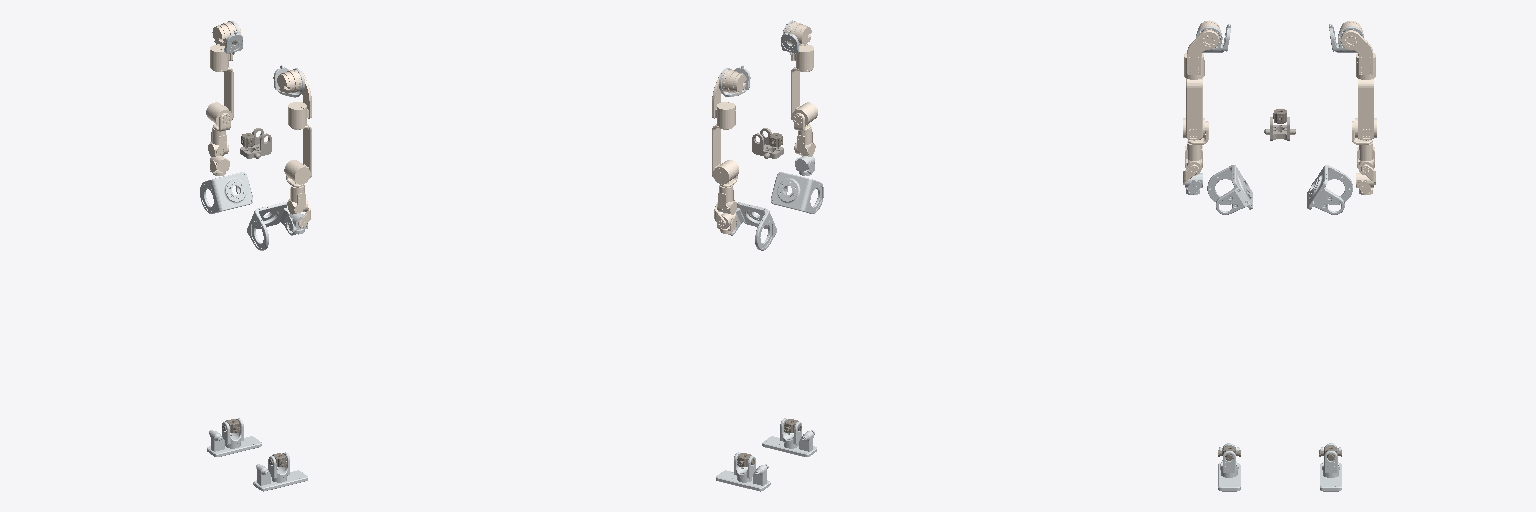
--- Render facts (derived) ---
3 views of the same robot in one strip: view 1: azimuth 30°, elevation 25°; view 2: azimuth 150°, elevation 25°; view 3: azimuth 270°, elevation 25° (orthographic).
Robot: fdr_IMU_09052 — 30 links, 29 joints (14 revolute, 15 fixed); root link base_link; default pose: all joints at 0.
Links seen in each view (by area): view 1: left_hip_pitch_link, right_hip_pitch_link, right_foot_roll_link, left_foot_roll_link, right_shoulder_yaw_link, left_shoulder_yaw_link, right_shoulder_roll_link, spine_yaw_link, left_elbow_link, right_elbow_link; view 2: right_hip_pitch_link, right_foot_roll_link, left_foot_roll_link, left_hip_pitch_link, left_shoulder_yaw_link, right_shoulder_yaw_link, left_shoulder_roll_link, spine_yaw_link, right_elbow_link, left_elbow_link; view 3: left_hip_pitch_link, right_hip_pitch_link, right_shoulder_yaw_link, left_shoulder_yaw_link, right_shoulder_roll_link, left_shoulder_roll_link, right_foot_roll_link, left_foot_roll_link.
Boxes of the visible links, bbox=[...] form: left_hip_pitch_link: bbox=[200, 172, 252, 213]; right_hip_pitch_link: bbox=[247, 202, 295, 250]; right_foot_roll_link: bbox=[253, 452, 307, 491]; left_foot_roll_link: bbox=[207, 418, 261, 456]; right_shoulder_yaw_link: bbox=[288, 102, 311, 177]; left_shoulder_yaw_link: bbox=[210, 45, 233, 119]; right_shoulder_roll_link: bbox=[277, 70, 311, 118]; spine_yaw_link: bbox=[240, 128, 271, 158]; left_elbow_link: bbox=[206, 102, 231, 131]; right_elbow_link: bbox=[284, 160, 310, 187]; right_hip_pitch_link: bbox=[771, 172, 823, 213]; right_foot_roll_link: bbox=[762, 418, 816, 456]; left_foot_roll_link: bbox=[716, 452, 770, 491]; left_hip_pitch_link: bbox=[728, 202, 776, 250]; left_shoulder_yaw_link: bbox=[712, 102, 735, 177]; right_shoulder_yaw_link: bbox=[791, 44, 813, 119]; left_shoulder_roll_link: bbox=[712, 70, 746, 118]; spine_yaw_link: bbox=[752, 128, 783, 158]; right_elbow_link: bbox=[792, 102, 817, 131]; left_elbow_link: bbox=[713, 160, 738, 187]; left_hip_pitch_link: bbox=[1307, 165, 1352, 214]; right_hip_pitch_link: bbox=[1207, 165, 1252, 214]; right_shoulder_yaw_link: bbox=[1184, 53, 1204, 139]; left_shoulder_yaw_link: bbox=[1356, 53, 1375, 139]; right_shoulder_roll_link: bbox=[1187, 20, 1220, 74]; left_shoulder_roll_link: bbox=[1339, 21, 1372, 74]; right_foot_roll_link: bbox=[1218, 443, 1240, 491]; left_foot_roll_link: bbox=[1320, 443, 1341, 491].
Size in the robot's own frame: 0.163 by 0.5196 by 1.35 metres.
22 mesh visuals loaded from 30 distinct referenced files (22 binary STL); not drawn: 8 (reference not matched to a file when rendering).

robot.urdf — fdr_IMU_09052:
<?xml version="1.0" encoding="utf-8"?>
<!-- This URDF was automatically created by SolidWorks to URDF Exporter! Originally created by Stephen Brawner ([email redacted]) 
     Commit Version: 1.6.0-4-g7f85cfe  Build Version: 1.6.7995.38578
     For more information, please see http://wiki.ros.org/sw_urdf_exporter -->
<robot
  name="fdr_IMU_09052">
  <link
    name="base_link">
    <inertial>
      <origin
        xyz="-0.092502 0.0022597 -0.074726"
        rpy="0 0 0" />
      <mass
        value="8.4317" />
      <inertia
        ixx="0.013583"
        ixy="5.901E-07"
        ixz="-1.6434E-06"
        iyy="0.018706"
        iyz="4.5016E-06"
        izz="0.017079" />
    </inertial>
    <visual>
      <origin
        xyz="0 0 0"
        rpy="0 0 0" />
      <geometry>
        <mesh
          filename="package://fdr_IMU_09052/meshes/base_link.STL" />
      </geometry>
      <material
        name="">
        <color
          rgba="0.64706 0.61961 0.58431 1" />
      </material>
    </visual>
    <collision>
      <origin
        xyz="0 0 0"
        rpy="0 0 0" />
      <geometry>
        <mesh
          filename="package://fdr_IMU_09052/meshes/base_link.STL" />
      </geometry>
    </collision>
  </link>
  <link
    name="spine_yaw_link">
    <inertial>
      <origin
        xyz="-0.0167642277988453 -4.83216550718556E-18 0.0179324427707128"
        rpy="0 0 0" />
      <mass
        value="0.512724857423574" />
      <inertia
        ixx="0.000360333966793871"
        ixy="1.99756294261622E-20"
        ixz="7.95371033557421E-05"
        iyy="0.000371991274463207"
        iyz="2.65944667615078E-19"
        izz="0.000485333353658816" />
    </inertial>
    <visual>
      <origin
        xyz="0 0 0"
        rpy="0 0 0" />
      <geometry>
        <mesh
          filename="package://fdr_IMU_09052/meshes/spine_yaw_link.STL" />
      </geometry>
      <material
        name="">
        <color
          rgba="0.776470588235294 0.756862745098039 0.737254901960784 1" />
      </material>
    </visual>
    <collision>
      <origin
        xyz="0 0 0"
        rpy="0 0 0" />
      <geometry>
        <mesh
          filename="package://fdr_IMU_09052/meshes/spine_yaw_link.STL" />
      </geometry>
    </collision>
  </link>
  <joint
    name="spine_yaw_joint"
    type="fixed">
    <origin
      xyz="-0.085746 0 0.033849"
      rpy="0 0 3.14" />
    <parent
      link="base_link" />
    <child
      link="spine_yaw_link" />
    <axis
      xyz="0 0 1" />
    <limit
      lower="-3.14"
      upper="3.14"
      effort="100"
      velocity="100" />
    <dynamics
      damping="10"
      friction="0" />
  </joint>
  <link
    name="spine_roll_link">
    <inertial>
      <origin
        xyz="-4.20014467650276E-10 -1.98020443563714E-09 0.0234999981280513"
        rpy="0 0 0" />
      <mass
        value="0.20322133284943" />
      <inertia
        ixx="3.82686783703292E-05"
        ixy="-1.75031578316365E-12"
        ixz="1.8338992610835E-12"
        iyy="3.50959754846851E-05"
        iyz="-7.31060579494829E-14"
        izz="3.50959762951732E-05" />
    </inertial>
    <visual>
      <origin
        xyz="0 0 0"
        rpy="0 0 0" />
      <geometry>
        <mesh
          filename="package://fdr_IMU_09052/meshes/spine_roll_link.STL" />
      </geometry>
      <material
        name="">
        <color
          rgba="0.647058823529412 0.619607843137255 0.588235294117647 1" />
      </material>
    </visual>
    <collision>
      <origin
        xyz="0 0 0"
        rpy="0 0 0" />
      <geometry>
        <mesh
          filename="package://fdr_IMU_09052/meshes/spine_roll_link.STL" />
      </geometry>
    </collision>
  </link>
  <joint
    name="spine_roll_joint"
    type="fixed">
    <origin
      xyz="-0.0115 0 0.049"
      rpy="3.14159265358979 -1.5707963267949 0" />
    <parent
      link="spine_yaw_link" />
    <child
      link="spine_roll_link" />
    <axis
      xyz="0 0 -1" />
    <limit
      lower="-3.14"
      upper="3.14"
      effort="100"
      velocity="100" />
    <dynamics
      damping="10" />
  </joint>
  <link
    name="spine_pitch_link">
    <inertial>
      <origin
        xyz="0.0390962896444022 0.153088838823938 -0.00764406602523993"
        rpy="0 0 0" />
      <mass
        value="16.3609406297762" />
      <inertia
        ixx="0.0503402522830446"
        ixy="0.00128746598277301"
        ixz="-3.64123165929132E-05"
        iyy="0.0251983730044507"
        iyz="-6.86772878998939E-06"
        izz="0.0452164860848158" />
    </inertial>
    <visual>
      <origin
        xyz="0 0 0"
        rpy="0 0 0" />
      <geometry>
        <mesh
          filename="package://fdr_IMU_09052/meshes/spine_pitch_link.STL" />
      </geometry>
      <material
        name="">
        <color
          rgba="0.898039215686275 0.917647058823529 0.929411764705882 1" />
      </material>
    </visual>
    <collision>
      <origin
        xyz="0 0 0"
        rpy="0 0 0" />
      <geometry>
        <mesh
          filename="package://fdr_IMU_09052/meshes/spine_pitch_link.STL" />
      </geometry>
    </collision>
  </link>
  <joint
    name="spine_pitch_joint"
    type="fixed">
    <origin
      xyz="0 0 0.0235"
      rpy="1.5707963267949 1.5707963267949 0" />
    <parent
      link="spine_roll_link" />
    <child
      link="spine_pitch_link" />
    <axis
      xyz="0 0 1" />
    <limit
      lower="-3.14"
      upper="3.14"
      effort="100"
      velocity="100" />
    <dynamics
      damping="10"
      friction="0" />
  </joint>
  <link
    name="right_shoulder_pitch_link">
    <inertial>
      <origin
        xyz="0.00726493672440402 0.0160210342146205 -0.0150718557979061"
        rpy="0 0 0" />
      <mass
        value="0.150404179426623" />
      <inertia
        ixx="0.00016065911452015"
        ixy="8.77761346033885E-07"
        ixz="2.3872677972639E-05"
        iyy="0.000116109794068915"
        iyz="1.82052724463733E-05"
        izz="0.000118562679048305" />
    </inertial>
    <visual>
      <origin
        xyz="0 0 0"
        rpy="0 0 0" />
      <geometry>
        <mesh
          filename="package://fdr_IMU_09052/meshes/right_shoulder_pitch_link.STL" />
      </geometry>
      <material
        name="">
        <color
          rgba="0.898039215686275 0.917647058823529 0.929411764705882 1" />
      </material>
    </visual>
    <collision>
      <origin
        xyz="0 0 0"
        rpy="0 0 0" />
      <geometry>
        <mesh
          filename="package://fdr_IMU_09052/meshes/right_shoulder_pitch_link.STL" />
      </geometry>
    </collision>
  </link>
  <joint
    name="right_shoulder_pitch_joint"
    type="revolute">
    <origin
      xyz="0.035 0.24912 0.14654"
      rpy="2.9845 0 0" />
    <parent
      link="spine_pitch_link" />
    <child
      link="right_shoulder_pitch_link" />
    <axis
      xyz="0 0 -1" />
    <limit
      lower="-0.5235987755982988"
      upper="1.3089969389957472"
      effort="100"
      velocity="100" />
    <dynamics
      damping="10"
      friction="0" />
  </joint>
  <link
    name="right_shoulder_roll_link">
    <inertial>
      <origin
        xyz="-0.00528301339360848 -0.00391103253287475 0.0306824966505937"
        rpy="0 0 0" />
      <mass
        value="0.824274203730424" />
      <inertia
        ixx="0.000413929187898958"
        ixy="-4.36667084281768E-05"
        ixz="-2.79690205937324E-06"
        iyy="0.000495983312000307"
        iyz="-2.26468871613379E-06"
        izz="0.000519944040658844" />
    </inertial>
    <visual>
      <origin
        xyz="0 0 0"
        rpy="0 0 0" />
      <geometry>
        <mesh
          filename="package://fdr_IMU_09052/meshes/right_shoulder_roll_link.STL" />
      </geometry>
      <material
        name="">
        <color
          rgba="1 0.949019607843137 0.898039215686275 1" />
      </material>
    </visual>
    <collision>
      <origin
        xyz="0 0 0"
        rpy="0 0 0" />
      <geometry>
        <mesh
          filename="package://fdr_IMU_09052/meshes/right_shoulder_roll_link.STL" />
      </geometry>
    </collision>
  </link>
  <joint
    name="right_shoulder_roll_joint"
    type="revolute">
    <origin
      xyz="0.037 0 -0.0440000000000103"
      rpy="1.5707963267949 0.157079632679465 -1.5707963267949" />
    <parent
      link="right_shoulder_pitch_link" />
    <child
      link="right_shoulder_roll_link" />
    <axis
      xyz="0 0 1" />
    <limit
      lower="0"
      upper="0.6981317007977318"
      effort="100"
      velocity="100" />
    <dynamics
      damping="10"
      friction="0" />
  </joint>
  <link
    name="right_shoulder_yaw_link">
    <inertial>
      <origin
        xyz="0.00733976342836698 -2.93483492130597E-05 0.0561889030475278"
        rpy="0 0 0" />
      <mass
        value="0.762217739018952" />
      <inertia
        ixx="0.000876116071853165"
        ixy="5.15463344860439E-08"
        ixz="-6.83621144019053E-05"
        iyy="0.000878059400297853"
        iyz="3.52958180892885E-07"
        izz="0.000276787535326338" />
    </inertial>
    <visual>
      <origin
        xyz="0 0 0"
        rpy="0 0 0" />
      <geometry>
        <mesh
          filename="package://fdr_IMU_09052/meshes/right_shoulder_yaw_link.STL" />
      </geometry>
      <material
        name="">
        <color
          rgba="1 0.949019607843137 0.898039215686275 1" />
      </material>
    </visual>
    <collision>
      <origin
        xyz="0 0 0"
        rpy="0 0 0" />
      <geometry>
        <mesh
          filename="package://fdr_IMU_09052/meshes/right_shoulder_yaw_link.STL" />
      </geometry>
    </collision>
  </link>
  <joint
    name="right_shoulder_yaw_joint"
    type="revolute">
    <origin
      xyz="-0.0606 -0.04 0.037"
      rpy="3.14159265358979 1.5707963267949 0" />
    <parent
      link="right_shoulder_roll_link" />
    <child
      link="right_shoulder_yaw_link" />
    <axis
      xyz="0 0 1" />
    <limit
      lower="-1.2217304763960306"
      upper="1.0471975511965976"
      effort="100"
      velocity="100" />
    <dynamics
      damping="10"
      friction="0" />
  </joint>
  <link
    name="right_elbow_link">
    <inertial>
      <origin
        xyz="0.000277962560749325 0.00264568178866972 0.031936880067252"
        rpy="0 0 0" />
      <mass
        value="0.627813247458869" />
      <inertia
        ixx="0.000302356374940733"
        ixy="-2.95392965048702E-09"
        ixz="6.15601022399525E-07"
        iyy="0.000296795649661971"
        iyz="9.79532669385132E-06"
        izz="0.000237062043603817" />
    </inertial>
    <visual>
      <origin
        xyz="0 0 0"
        rpy="0 0 0" />
      <geometry>
        <mesh
          filename="package://fdr_IMU_09052/meshes/right_elbow_link.STL" />
      </geometry>
      <material
        name="">
        <color
          rgba="1 0.949019607843137 0.898039215686275 1" />
      </material>
    </visual>
    <collision>
      <origin
        xyz="0 0 0"
        rpy="0 0 0" />
      <geometry>
        <mesh
          filename="package://fdr_IMU_09052/meshes/right_elbow_link.STL" />
      </geometry>
    </collision>
  </link>
  <joint
    name="right_elbow_joint"
    type="revolute">
    <origin
      xyz="0 0.0294 0.2144"
      rpy="1.5707963267949 0 0" />
    <parent
      link="right_shoulder_yaw_link" />
    <child
      link="right_elbow_link" />
    <axis
      xyz="0 0 1" />
    <limit
      lower="-1.5707963267948966"
      upper="0.17453292519943295"
      effort="100"
      velocity="100" />
    <dynamics
      damping="10"
      friction="0" />
  </joint>
  <link
    name="right_wrist_yaw_link">
    <inertial>
      <origin
        xyz="-0.000242656820709049 8.32667268468867E-17 0.0258622047747572"
        rpy="0 0 0" />
      <mass
        value="0.266822775800458" />
      <inertia
        ixx="7.74367014315816E-05"
        ixy="-1.29474320794427E-21"
        ixz="1.25125744566069E-06"
        iyy="7.68686590797202E-05"
        iyz="-1.04366370075862E-19"
        izz="5.16776275688375E-05" />
    </inertial>
    <visual>
      <origin
        xyz="0 0 0"
        rpy="0 0 0" />
      <geometry>
        <mesh
          filename="package://fdr_IMU_09052/meshes/right_wrist_yaw_link.STL" />
      </geometry>
      <material
        name="">
        <color
          rgba="1 0.949019607843137 0.898039215686275 1" />
      </material>
    </visual>
    <collision>
      <origin
        xyz="0 0 0"
        rpy="0 0 0" />
      <geometry>
        <mesh
          filename="package://fdr_IMU_09052/meshes/right_wrist_yaw_link.STL" />
      </geometry>
    </collision>
  </link>
  <joint
    name="right_wrist_yaw_joint"
    type="revolute">
    <origin
      xyz="0 0.042 0.0294"
      rpy="-1.5707963267949 0 0" />
    <parent
      link="right_elbow_link" />
    <child
      link="right_wrist_yaw_link" />
    <axis
      xyz="0 0 1" />
    <limit
      lower="-3.14"
      upper="3.14"
      effort="100"
      velocity="100" />
    <dynamics
      damping="10"
      friction="0" />
  </joint>
  <link
    name="right_wrist_roll_link">
    <inertial>
      <origin
        xyz="-0.00291298270747151 -0.00237223155080904 0.0212206264270455"
        rpy="0 0 0" />
      <mass
        value="0.276210246259396" />
      <inertia
        ixx="7.94967887501699E-05"
        ixy="-5.19558029637707E-06"
        ixz="5.19558219301222E-06"
        iyy="8.27578232688135E-05"
        iyz="2.81018255326507E-06"
        izz="6.49063504688485E-05" />
    </inertial>
    <visual>
      <origin
        xyz="0 0 0"
        rpy="0 0 0" />
      <geometry>
        <mesh
          filename="package://fdr_IMU_09052/meshes/right_wrist_roll_link.STL" />
      </geometry>
      <material
        name="">
        <color
          rgba="1 0.949019607843137 0.898039215686275 1" />
      </material>
    </visual>
    <collision>
      <origin
        xyz="0 0 0"
        rpy="0 0 0" />
      <geometry>
        <mesh
          filename="package://fdr_IMU_09052/meshes/right_wrist_roll_link.STL" />
      </geometry>
    </collision>
  </link>
  <joint
    name="right_wrist_roll_joint"
    type="revolute">
    <origin
      xyz="0.024 0 0.0675"
      rpy="3.14159265358979 1.5707963267949 0" />
    <parent
      link="right_wrist_yaw_link" />
    <child
      link="right_wrist_roll_link" />
    <axis
      xyz="0 0 1" />
    <limit
      lower="-3.14"
      upper="3.14"
      effort="100"
      velocity="100" />
    <dynamics
      damping="10"
      friction="0" />
  </joint>
  <link
    name="right_wrist_pitch_link">
    <inertial>
      <origin
        xyz="-7.69785001439601E-10 -0.00525553432682421 0.0235450775997483"
        rpy="0 0 0" />
      <mass
        value="0.309451429847079" />
      <inertia
        ixx="7.59405108715065E-05"
        ixy="2.22661625566264E-12"
        ixz="2.28931729492218E-12"
        iyy="8.16300598612419E-05"
        iyz="5.37008224611371E-07"
        izz="5.82370720700534E-05" />
    </inertial>
    <visual>
      <origin
        xyz="0 0 0"
        rpy="0 0 0" />
      <geometry>
        <mesh
          filename="package://fdr_IMU_09052/meshes/right_wrist_pitch_link.STL" />
      </geometry>
      <material
        name="">
        <color
          rgba="0.898039215686275 0.917647058823529 0.929411764705882 1" />
      </material>
    </visual>
    <collision>
      <origin
        xyz="0 0 0"
        rpy="0 0 0" />
      <geometry>
        <mesh
          filename="package://fdr_IMU_09052/meshes/right_wrist_pitch_link.STL" />
      </geometry>
    </collision>
  </link>
  <joint
    name="right_wrist_pitch_joint"
    type="revolute">
    <origin
      xyz="-0.045 0.0227 0.024"
      rpy="1.5707963267949 1.5707963267949 0" />
    <parent
      link="right_wrist_roll_link" />
    <child
      link="right_wrist_pitch_link" />
    <axis
      xyz="0 0 -1" />
    <limit
      lower="-3.14"
      upper="3.14"
      effort="100"
      velocity="100" />
    <dynamics
      damping="10"
      friction="0" />
  </joint>
  <link
    name="left_shoulder_pitch_link">
    <inertial>
      <origin
        xyz="0.00726263720510797 -0.0160426716485585 -0.0151508653822726"
        rpy="0 0 0" />
      <mass
        value="0.150612198017708" />
      <inertia
        ixx="0.000161248575295525"
        ixy="-8.87481553883276E-07"
        ixz="2.39760430526512E-05"
        iyy="0.000116670878127269"
        iyz="-1.82773958434125E-05"
        izz="0.000118642023449451" />
    </inertial>
    <visual>
      <origin
        xyz="0 0 0"
        rpy="0 0 0" />
      <geometry>
        <mesh
          filename="package://fdr_IMU_09052/meshes/left_shoulder_pitch_link.STL" />
      </geometry>
      <material
        name="">
        <color
          rgba="0.898039215686275 0.917647058823529 0.929411764705882 1" />
      </material>
    </visual>
    <collision>
      <origin
        xyz="0 0 0"
        rpy="0 0 0" />
      <geometry>
        <mesh
          filename="package://fdr_IMU_09052/meshes/left_shoulder_pitch_link.STL" />
      </geometry>
    </collision>
  </link>
  <joint
    name="left_shoulder_pitch_joint"
    type="revolute">
    <origin
      xyz="0.035 0.24909 -0.14634"
      rpy="0.15708 0 0" />
    <parent
      link="spine_pitch_link" />
    <child
      link="left_shoulder_pitch_link" />
    <axis
      xyz="0 0 -1" />
    <limit
      lower="-1.3089969389957472"
      upper="0.5235987755982988"
      effort="100"
      velocity="100" />
    <dynamics
      damping="10"
      friction="0" />
  </joint>
  <link
    name="left_shoulder_roll_link">
    <inertial>
      <origin
        xyz="-0.00528301339357101 0.00422008160705353 0.0306824966506983"
        rpy="0 0 0" />
      <mass
        value="0.824274203727834" />
      <inertia
        ixx="0.000413929187896465"
        ixy="4.45257216793729E-05"
        ixz="-2.79690205949292E-06"
        iyy="0.000495983311989378"
        iyz="-4.40399144249311E-06"
        izz="0.000519944040645479" />
    </inertial>
    <visual>
      <origin
        xyz="0 0 0"
        rpy="0 0 0" />
      <geometry>
        <mesh
          filename="package://fdr_IMU_09052/meshes/left_shoulder_roll_link.STL" />
      </geometry>
      <material
        name="">
        <color
          rgba="1 0.949019607843137 0.898039215686275 1" />
      </material>
    </visual>
    <collision>
      <origin
        xyz="0 0 0"
        rpy="0 0 0" />
      <geometry>
        <mesh
          filename="package://fdr_IMU_09052/meshes/left_shoulder_roll_link.STL" />
      </geometry>
    </collision>
  </link>
  <joint
    name="left_shoulder_roll_joint"
    type="revolute">
    <origin
      xyz="0.037 0 -0.0441999999999534"
      rpy="-1.5707963267949 0.157079632679465 1.5707963267949" />
    <parent
      link="left_shoulder_pitch_link" />
    <child
      link="left_shoulder_roll_link" />
    <axis
      xyz="0 0 1" />
    <limit
      lower="-0.6981317007977318"
      upper="0"
      effort="100"
      velocity="100" />
    <dynamics
      damping="10"
      friction="0" />
  </joint>
  <link
    name="left_shoulder_yaw_link">
    <inertial>
      <origin
        xyz="0.00733976343068545 -5.88472369134063E-06 0.056188903061288"
        rpy="0 0 0" />
      <mass
        value="0.762217739339882" />
      <inertia
        ixx="0.000876116072763052"
        ixy="-5.74541148921429E-08"
        ixz="-6.83621146066282E-05"
        iyy="0.000878059401242813"
        iyz="-1.13865106166626E-06"
        izz="0.000276787535412725" />
    </inertial>
    <visual>
      <origin
        xyz="0 0 0"
        rpy="0 0 0" />
      <geometry>
        <mesh
          filename="package://fdr_IMU_09052/meshes/left_shoulder_yaw_link.STL" />
      </geometry>
      <material
        name="">
        <color
          rgba="1 0.949019607843137 0.898039215686275 1" />
      </material>
    </visual>
    <collision>
      <origin
        xyz="0 0 0"
        rpy="0 0 0" />
      <geometry>
        <mesh
          filename="package://fdr_IMU_09052/meshes/left_shoulder_yaw_link.STL" />
      </geometry>
    </collision>
  </link>
  <joint
    name="left_shoulder_yaw_joint"
    type="revolute">
    <origin
      xyz="-0.0606 0.04 0.037"
      rpy="3.14159265358979 1.5707963267949 0" />
    <parent
      link="left_shoulder_roll_link" />
    <child
      link="left_shoulder_yaw_link" />
    <axis
      xyz="0 0 1" />
    <limit
      lower="-1.0471975511965976"
      upper="1.2217304763960306"
      effort="100"
      velocity="100" />
    <dynamics
      damping="10"
      friction="0" />
  </joint>
  <link
    name="left_elbow_link">
    <inertial>
      <origin
        xyz="0.000277962530646157 -0.00268845768241005 0.031936880067252"
        rpy="0 0 0" />
      <mass
        value="0.627813247458869" />
      <inertia
        ixx="0.000302356374940733"
        ixy="-2.95392965048745E-09"
        ixz="6.15601219789649E-07"
        iyy="0.000296795649661971"
        iyz="-1.05810195799431E-05"
        izz="0.000237062043603817" />
    </inertial>
    <visual>
      <origin
        xyz="0 0 0"
        rpy="0 0 0" />
      <geometry>
        <mesh
          filename="package://fdr_IMU_09052/meshes/left_elbow_link.STL" />
      </geometry>
      <material
        name="">
        <color
          rgba="1 0.949019607843137 0.898039215686275 1" />
      </material>
    </visual>
    <collision>
      <origin
        xyz="0 0 0"
        rpy="0 0 0" />
      <geometry>
        <mesh
          filename="package://fdr_IMU_09052/meshes/left_elbow_link.STL" />
      </geometry>
    </collision>
  </link>
  <joint
    name="left_elbow_joint"
    type="revolute">
    <origin
      xyz="0 -0.0294 0.2144"
      rpy="-1.5707963267949 0 0" />
    <parent
      link="left_shoulder_yaw_link" />
    <child
      link="left_elbow_link" />
    <axis
      xyz="0 0 1" />
    <limit
      lower="-0.17453292519943295"
      upper="1.5707963267948966"
      effort="100"
      velocity="100" />
    <dynamics
      damping="10"
      friction="0" />
  </joint>
  <link
    name="left_wrist_yaw_link">
    <inertial>
      <origin
        xyz="-0.000242656820709049 -2.77555756156289E-17 0.0258622047747572"
        rpy="0 0 0" />
      <mass
        value="0.266822775800458" />
      <inertia
        ixx="7.74367014315816E-05"
        ixy="-1.26900503350933E-21"
        ixz="1.25125744566069E-06"
        iyy="7.68686590797202E-05"
        iyz="-1.03811422205815E-19"
        izz="5.16776275688375E-05" />
    </inertial>
    <visual>
      <origin
        xyz="0 0 0"
        rpy="0 0 0" />
      <geometry>
        <mesh
          filename="package://fdr_IMU_09052/meshes/left_wrist_yaw_link.STL" />
      </geometry>
      <material
        name="">
        <color
          rgba="1 0.949019607843137 0.898039215686275 1" />
      </material>
    </visual>
    <collision>
      <origin
        xyz="0 0 0"
        rpy="0 0 0" />
      <geometry>
        <mesh
          filename="package://fdr_IMU_09052/meshes/left_wrist_yaw_link.STL" />
      </geometry>
    </collision>
  </link>
  <joint
    name="left_wrist_yaw_joint"
    type="revolute">
    <origin
      xyz="0 -0.042 0.0294"
      rpy="1.5707963267949 0 0" />
    <parent
      link="left_elbow_link" />
    <child
      link="left_wrist_yaw_link" />
    <axis
      xyz="0 0 1" />
    <limit
      lower="-3.14"
      upper="3.14"
      effort="100"
      velocity="100" />
    <dynamics
      damping="10"
      friction="0" />
  </joint>
  <link
    name="left_wrist_roll_link">
    <inertial>
      <origin
        xyz="-0.00271810662703392 0.00201201962004702 0.0211950607696797"
        rpy="0 0 0" />
      <mass
        value="0.274346030030275" />
      <inertia
        ixx="7.76928649640188E-05"
        ixy="4.43156185765288E-06"
        ixz="4.43158664757676E-06"
        iyy="8.10716974552498E-05"
        iyz="-2.25195729341594E-06"
        izz="6.3220240297169E-05" />
    </inertial>
    <visual>
      <origin
        xyz="0 0 0"
        rpy="0 0 0" />
      <geometry>
        <mesh
          filename="package://fdr_IMU_09052/meshes/left_wrist_roll_link.STL" />
      </geometry>
      <material
        name="">
        <color
          rgba="1 0.949019607843137 0.898039215686275 1" />
      </material>
    </visual>
    <collision>
      <origin
        xyz="0 0 0"
        rpy="0 0 0" />
      <geometry>
        <mesh
          filename="package://fdr_IMU_09052/meshes/left_wrist_roll_link.STL" />
      </geometry>
    </collision>
  </link>
  <joint
    name="left_wrist_roll_joint"
    type="revolute">
    <origin
      xyz="0.0209 0 0.068"
      rpy="3.14159265358979 1.5707963267949 0" />
    <parent
      link="left_wrist_yaw_link" />
    <child
      link="left_wrist_roll_link" />
    <axis
      xyz="0 0 1" />
    <limit
      lower="-3.14"
      upper="3.14"
      effort="100"
      velocity="100" />
    <dynamics
      damping="10"
      friction="0" />
  </joint>
  <link
    name="left_wrist_pitch_link">
    <inertial>
      <origin
        xyz="7.69785000616429E-10 0.00525553432682421 0.0235450775997483"
        rpy="0 0 0" />
      <mass
        value="0.309451429847079" />
      <inertia
        ixx="7.59405108715065E-05"
        ixy="2.22661625620084E-12"
        ixz="-2.28931728886267E-12"
        iyy="8.16300598612419E-05"
        iyz="-5.37008224611369E-07"
        izz="5.82370720700534E-05" />
    </inertial>
    <visual>
      <origin
        xyz="0 0 0"
        rpy="0 3.1415926 3.1415926" />
      <geometry>
        <mesh
          filename="package://fdr_IMU_09052/meshes/left_wrist_pitch_link.STL" />
      </geometry>
      <material
        name="">
        <color
          rgba="1 0.949019607843137 0.898039215686275 1" />
      </material>
    </visual>
    <collision>
      <origin
        xyz="0 0 0"
        rpy="0 0 0" />
      <geometry>
        <mesh
          filename="package://fdr_IMU_09052/meshes/left_wrist_pitch_link.STL" />
      </geometry>
    </collision>
  </link>
  <joint
    name="left_wrist_pitch_joint"
    type="revolute">
    <origin
      xyz="-0.044 -0.0258 0.0209"
      rpy="1.5707963267949 1.5707963267949 0" />
    <parent
      link="left_wrist_roll_link" />
    <child
      link="left_wrist_pitch_link" />
    <axis
      xyz="0 0 -1" />
    <limit
      lower="-3.14"
      upper="3.14"
      effort="100"
      velocity="100" />
    <dynamics
      damping="10"
      friction="0" />
  </joint>
  <link
    name="right_hip_pitch_link">
    <inertial>
      <origin
        xyz="1.9979E-06 0.010421 0.1331"
        rpy="0 0 0" />
      <mass
        value="0.5141" />
      <inertia
        ixx="0.00090594"
        ixy="2.0403E-12"
        ixz="-4.2054E-11"
        iyy="0.00079927"
        iyz="-0.0002226"
        izz="0.00091077" />
    </inertial>
    <visual>
      <origin
        xyz="0 0 0"
        rpy="0 0 0" />
      <geometry>
        <mesh
          filename="package://fdr_IMU_09052/meshes/right_hip_pitch_link.STL" />
      </geometry>
      <material
        name="">
        <color
          rgba="0.89804 0.91765 0.92941 1" />
      </material>
    </visual>
    <collision>
      <origin
        xyz="0 0 0"
        rpy="0 0 0" />
      <geometry>
        <mesh
          filename="package://fdr_IMU_09052/meshes/right_hip_pitch_link.STL" />
      </geometry>
    </collision>
  </link>
  <joint
    name="right_hip_pitch_joint"
    type="fixed">
    <origin
      xyz="-0.085746 -0.00014145 -0.066941"
      rpy="3.1416 -1.0472 -1.5708" />
    <parent
      link="base_link" />
    <child
      link="right_hip_pitch_link" />
    <axis
      xyz="0 0 -1" />
    <limit
      lower="-3.14"
      upper="3.14"
      effort="100"
      velocity="100" />
    <dynamics
      damping="10"
      friction="0" />
  </joint>
  <link
    name="right_hip_roll_link">
    <inertial>
      <origin
        xyz="-0.00351175904322644 0.00213825383844726 -0.121236758329289"
        rpy="0 0 0" />
      <mass
        value="1.3693319701148" />
      <inertia
        ixx="0.00136647356229456"
        ixy="-7.07413791120472E-05"
        ixz="7.73700487142666E-07"
        iyy="0.00128359378282527"
        iyz="-1.35246498516851E-07"
        izz="0.00168282060523097" />
    </inertial>
    <visual>
      <origin
        xyz="0 0 0"
        rpy="0 0 0" />
      <geometry>
        <mesh
          filename="package://fdr_IMU_09052/meshes/right_hip_roll_link.STL" />
      </geometry>
      <material
        name="">
        <color
          rgba="0.666666666666667 0.666666666666667 0.666666666666667 1" />
      </material>
    </visual>
    <collision>
      <origin
        xyz="0 0 0"
        rpy="0 0 0" />
      <geometry>
        <mesh
          filename="package://fdr_IMU_09052/meshes/right_hip_roll_link.STL" />
      </geometry>
    </collision>
  </link>
  <joint
    name="right_hip_roll_joint"
    type="fixed">
    <origin
      xyz="0 -0.0579 0.168423465395998"
      rpy="1.5707963267949 0 0" />
    <parent
      link="right_hip_pitch_link" />
    <child
      link="right_hip_roll_link" />
    <axis
      xyz="0 0 -1" />
    <limit
      lower="-3.14"
      upper="3.14"
      effort="100"
      velocity="100" />
    <dynamics
      damping="10"
      friction="0" />
  </joint>
  <link
    name="right_thigh_link">
    <inertial>
      <origin
        xyz="-0.00325509982000108 0.000554462939853769 0.184479345085281"
        rpy="0 0 0" />
      <mass
        value="5.06687606257514" />
      <inertia
        ixx="0.0193770781551915"
        ixy="-1.06983102465003E-05"
        ixz="0.000232233857347913"
        iyy="0.014666629196614"
        iyz="2.93038014571072E-06"
        izz="0.00626275211933568" />
    </inertial>
    <visual>
      <origin
        xyz="0 0 0"
        rpy="0 0 0" />
      <geometry>
        <mesh
          filename="package://fdr_IMU_09052/meshes/right_thigh_link.STL" />
      </geometry>
      <material
        name="">
        <color
          rgba="1 0.807843137254902 0.498039215686275 1" />
      </material>
    </visual>
    <collision>
      <origin
        xyz="0 0 0"
        rpy="0 0 0" />
      <geometry>
        <mesh
          filename="package://fdr_IMU_09052/meshes/right_thigh_link.STL" />
      </geometry>
    </collision>
  </link>
  <joint
    name="right_hip_yaw_joint"
    type="fixed">
    <origin
      xyz="0.0303974916729123 -0.017549999999864 -0.0578999999999063"
      rpy="1.57079632679486 0 -2.09439510239318" />
    <parent
      link="right_hip_roll_link" />
    <child
      link="right_thigh_link" />
    <axis
      xyz="0 0 -1" />
    <limit
      lower="-3.14"
      upper="3.14"
      effort="100"
      velocity="100" />
    <dynamics
      damping="10"
      friction="0" />
  </joint>
  <link
    name="right_calf_link">
    <inertial>
      <origin
        xyz="-0.00841174675975504 0.147996987926378 0.00106255817030168"
        rpy="0 0 0" />
      <mass
        value="3.12967605879538" />
      <inertia
        ixx="0.022624582237862"
        ixy="-0.00116790580119756"
        ixz="3.83913303868965E-06"
        iyy="0.00168350798595526"
        iyz="-2.0104152841762E-05"
        izz="0.0238178079867671" />
    </inertial>
    <visual>
      <origin
        xyz="0 0 0"
        rpy="0 0 0" />
      <geometry>
        <mesh
          filename="package://fdr_IMU_09052/meshes/right_calf_link.STL" />
      </geometry>
      <material
        name="">
        <color
          rgba="0.898039215686275 0.917647058823529 0.929411764705882 1" />
      </material>
    </visual>
    <collision>
      <origin
        xyz="0 0 0"
        rpy="0 0 0" />
      <geometry>
        <mesh
          filename="package://fdr_IMU_09052/meshes/right_calf_link.STL" />
      </geometry>
    </collision>
  </link>
  <joint
    name="right_knee_joint"
    type="fixed">
    <origin
      xyz="0.0100000000001472 -0.00200000000011069 0.4151"
      rpy="1.57079632679487 0 1.5707963267949" />
    <parent
      link="right_thigh_link" />
    <child
      link="right_calf_link" />
    <axis
      xyz="0 0 1" />
    <limit
      lower="0"
      upper="1.3"
      effort="100"
      velocity="100" />
    <dynamics
      damping="10"
      friction="0" />
  </joint>
  <link
    name="right_foot_pitch_link">
    <inertial>
      <origin
        xyz="3.96600086105536E-10 -1.76759378835156E-09 -1.86981466421265E-09"
        rpy="0 0 0" />
      <mass
        value="0.215219076635413" />
      <inertia
        ixx="3.91098961957665E-05"
        ixy="-1.8338992491678E-12"
        ixz="1.7503157832983E-12"
        iyy="3.5669798840359E-05"
        iyz="-7.31060646509625E-14"
        izz="3.56643107217185E-05" />
    </inertial>
    <visual>
      <origin
        xyz="0 0 0"
        rpy="0 0 0" />
      <geometry>
        <mesh
          filename="package://fdr_IMU_09052/meshes/right_foot_pitch_link.STL" />
      </geometry>
      <material
        name="">
        <color
          rgba="0.647058823529412 0.619607843137255 0.588235294117647 1" />
      </material>
    </visual>
    <collision>
      <origin
        xyz="0 0 0"
        rpy="0 0 0" />
      <geometry>
        <mesh
          filename="package://fdr_IMU_09052/meshes/right_foot_pitch_link.STL" />
      </geometry>
    </collision>
  </link>
  <joint
    name="right_foot_pitch_joint"
    type="fixed">
    <origin
      xyz="0.017 0.37 0"
      rpy="0 0 1.57079632679489" />
    <parent
      link="right_calf_link" />
    <child
      link="right_foot_pitch_link" />
    <axis
      xyz="0 0 -1" />
    <limit
      lower="-3.14"
      upper="3.14"
      effort="100"
      velocity="100" />
    <dynamics
      damping="10"
      friction="0" />
  </joint>
  <link
    name="right_foot_roll_link">
    <inertial>
      <origin
        xyz="-0.0479638882923885 3.15592821208133E-05 0.0470546297177579"
        rpy="0 0 0" />
      <mass
        value="0.961122274283929" />
      <inertia
        ixx="0.000891083370931844"
        ixy="1.62771994305138E-07"
        ixz="-1.13606112529343E-05"
        iyy="0.000859378855715806"
        iyz="-5.82790783736439E-08"
        izz="0.000280872132928205" />
    </inertial>
    <visual>
      <origin
        xyz="0 0 0"
        rpy="0 0 0" />
      <geometry>
        <mesh
          filename="package://fdr_IMU_09052/meshes/right_foot_roll_link.STL" />
      </geometry>
      <material
        name="">
        <color
          rgba="0.898039215686275 0.917647058823529 0.929411764705882 1" />
      </material>
    </visual>
    <collision>
      <origin
        xyz="0 0 0"
        rpy="0 0 0" />
      <geometry>
        <mesh
          filename="package://fdr_IMU_09052/meshes/right_foot_roll_link.STL" />
      </geometry>
    </collision>
  </link>
  <joint
    name="right_foot_roll_joint"
    type="fixed">
    <origin
      xyz="0 -0.0307 0"
      rpy="1.57079632679489 0 -3.14159265358979" />
    <parent
      link="right_foot_pitch_link" />
    <child
      link="right_foot_roll_link" />
    <axis
      xyz="0 0 -1" />
    <limit
      lower="-3.14"
      upper="3.14"
      effort="100"
      velocity="100" />
    <dynamics
      damping="10"
      friction="0" />
  </joint>
  <link
    name="left_hip_pitch_link">
    <inertial>
      <origin
        xyz="-0.010421 -1.1502E-08 0.10267"
        rpy="0 0 0" />
      <mass
        value="0.5141" />
      <inertia
        ixx="0.00079927"
        ixy="1.082E-11"
        ixz="0.0002226"
        iyy="0.00090594"
        iyz="-1.0485E-10"
        izz="0.00091077" />
    </inertial>
    <visual>
      <origin
        xyz="0 0 0"
        rpy="0 0 0" />
      <geometry>
        <mesh
          filename="package://fdr_IMU_09052/meshes/left_hip_pitch_link.STL" />
      </geometry>
      <material
        name="">
        <color
          rgba="0.89804 0.91765 0.92941 1" />
      </material>
    </visual>
    <collision>
      <origin
        xyz="0 0 0"
        rpy="0 0 0" />
      <geometry>
        <mesh
          filename="package://fdr_IMU_09052/meshes/left_hip_pitch_link.STL" />
      </geometry>
    </collision>
  </link>
  <joint
    name="left_hip_pitch_joint"
    type="fixed">
    <origin
      xyz="-0.085746 0.026487 -0.082151"
      rpy="-2.0944 0 0" />
    <parent
      link="base_link" />
    <child
      link="left_hip_pitch_link" />
    <axis
      xyz="0 0 -1" />
    <limit
      lower="-3.14"
      upper="3.14"
      effort="100"
      velocity="100" />
    <dynamics
      damping="10"
      friction="0" />
  </joint>
  <link
    name="left_hip_roll_link">
    <inertial>
      <origin
        xyz="9.59026264895357E-05 -0.00411039946413077 0.121236758328767"
        rpy="0 0 0" />
      <mass
        value="1.3693319700924" />
      <inertia
        ixx="0.00124304989640137"
        ixy="5.1730783218274E-07"
        ixz="-2.69723344613889E-07"
        iyy="0.00140701744876873"
        iyz="-7.37667526069543E-07"
        izz="0.00168282060528281" />
    </inertial>
    <visual>
      <origin
        xyz="0 0 0"
        rpy="0 0 0" />
      <geometry>
        <mesh
          filename="package://fdr_IMU_09052/meshes/left_hip_roll_link.STL" />
      </geometry>
      <material
        name="">
        <color
          rgba="0.666666666666667 0.666666666666667 0.666666666666667 1" />
      </material>
    </visual>
    <collision>
      <origin
        xyz="0 0 0"
        rpy="0 0 0" />
      <geometry>
        <mesh
          filename="package://fdr_IMU_09052/meshes/left_hip_roll_link.STL" />
      </geometry>
    </collision>
  </link>
  <joint
    name="left_hip_roll_joint"
    type="fixed">
    <origin
      xyz="0.0579 0 0.138"
      rpy="-1.5708 1.0472 1.5708" />
    <parent
      link="left_hip_pitch_link" />
    <child
      link="left_hip_roll_link" />
    <axis
      xyz="0 0 1" />
    <limit
      lower="-3.14"
      upper="3.14"
      effort="100"
      velocity="100" />
    <dynamics
      damping="10"
      friction="0" />
  </joint>
  <link
    name="left_thigh_link">
    <inertial>
      <origin
        xyz="0.000527688840145481 0.000132907762216361 0.193722931737544"
        rpy="0 0 0" />
      <mass
        value="5.56900997086736" />
      <inertia
        ixx="0.0179737904529975"
        ixy="-1.23470501294547E-05"
        ixz="6.78446917774559E-05"
        iyy="0.0226993418189507"
        iyz="0.000236563035762916"
        izz="0.00628200689858618" />
    </inertial>
    <visual>
      <origin
        xyz="0 0 0"
        rpy="0 0 0" />
      <geometry>
        <mesh
          filename="package://fdr_IMU_09052/meshes/left_thigh_link.STL" />
      </geometry>
      <material
        name="">
        <color
          rgba="1 0.807843137254902 0.498039215686275 1" />
      </material>
    </visual>
    <collision>
      <origin
        xyz="0 0 0"
        rpy="0 0 0" />
      <geometry>
        <mesh
          filename="package://fdr_IMU_09052/meshes/left_thigh_link.STL" />
      </geometry>
    </collision>
  </link>
  <joint
    name="left_hip_yaw_joint"
    type="fixed">
    <origin
      xyz="0 0.0351 0.0579000000000937"
      rpy="1.57079632679487 1.5707963267949 0" />
    <parent
      link="left_hip_roll_link" />
    <child
      link="left_thigh_link" />
    <axis
      xyz="0 0 -1" />
    <limit
      lower="-3.14"
      upper="3.14"
      effort="100"
      velocity="100" />
    <dynamics
      damping="10"
      friction="0" />
  </joint>
  <link
    name="left_calf_link">
    <inertial>
      <origin
        xyz="-0.0113614075272383 -0.153796195730997 0.0275168043767554"
        rpy="0 0 0" />
      <mass
        value="3.08111540544371" />
      <inertia
        ixx="0.0226199080419268"
        ixy="0.00116789922794549"
        ixz="3.74691553397954E-06"
        iyy="0.00167917593121502"
        iyz="1.93049737072618E-05"
        izz="0.0238096426576811" />
    </inertial>
    <visual>
      <origin
        xyz="0 0 0"
        rpy="0 0 0" />
      <geometry>
        <mesh
          filename="package://fdr_IMU_09052/meshes/left_calf_link.STL" />
      </geometry>
      <material
        name="">
        <color
          rgba="0.898039215686275 0.917647058823529 0.929411764705882 1" />
      </material>
    </visual>
    <collision>
      <origin
        xyz="0 0 0"
        rpy="0 0 0" />
      <geometry>
        <mesh
          filename="package://fdr_IMU_09052/meshes/left_calf_link.STL" />
      </geometry>
    </collision>
  </link>
  <joint
    name="left_knee_joint"
    type="fixed">
    <origin
      xyz="0 -0.0199999999998528 0.4151"
      rpy="-1.57079632679487 0 0" />
    <parent
      link="left_thigh_link" />
    <child
      link="left_calf_link" />
    <axis
      xyz="0 0 1" />
    <limit
      lower="-1.3"
      upper="0"
      effort="100"
      velocity="100" />
    <dynamics
      damping="10"
      friction="0" />
  </joint>
  <link
    name="left_foot_pitch_link">
    <inertial>
      <origin
        xyz="1.76759380396407E-09 -3.96600530194746E-10 0.0307000018698146"
        rpy="0 0 0" />
      <mass
        value="0.215219076635413" />
      <inertia
        ixx="3.56697988403589E-05"
        ixy="-1.83389925914762E-12"
        ixz="-7.31060688584059E-14"
        iyy="3.91098961957665E-05"
        iyz="1.75031578204807E-12"
        izz="3.56643107217185E-05" />
    </inertial>
    <visual>
      <origin
        xyz="0 0 0"
        rpy="0 0 0" />
      <geometry>
        <mesh
          filename="package://fdr_IMU_09052/meshes/left_foot_pitch_link.STL" />
      </geometry>
      <material
        name="">
        <color
          rgba="0.647058823529412 0.619607843137255 0.588235294117647 1" />
      </material>
    </visual>
    <collision>
      <origin
        xyz="0 0 0"
        rpy="0 0 0" />
      <geometry>
        <mesh
          filename="package://fdr_IMU_09052/meshes/left_foot_pitch_link.STL" />
      </geometry>
    </collision>
  </link>
  <joint
    name="left_foot_pitch_joint"
    type="fixed">
    <origin
      xyz="0.015 -0.37 -0.000700000000000006"
      rpy="0 0 0" />
    <parent
      link="left_calf_link" />
    <child
      link="left_foot_pitch_link" />
    <axis
      xyz="0 0 -1" />
    <limit
      lower="-3.14"
      upper="3.14"
      effort="100"
      velocity="100" />
    <dynamics
      damping="10"
      friction="0" />
  </joint>
  <link
    name="left_foot_roll_link">
    <inertial>
      <origin
        xyz="-0.0479638882923891 3.1559282120841E-05 0.0470546297177579"
        rpy="0 0 0" />
      <mass
        value="0.96112227428393" />
      <inertia
        ixx="0.000891083370931844"
        ixy="1.62771994305179E-07"
        ixz="-1.13606112529343E-05"
        iyy="0.000859378855715806"
        iyz="-5.82790783735542E-08"
        izz="0.000280872132928205" />
    </inertial>
    <visual>
      <origin
        xyz="0 0 0"
        rpy="0 0 0" />
      <geometry>
        <mesh
          filename="package://fdr_IMU_09052/meshes/left_foot_roll_link.STL" />
      </geometry>
      <material
        name="">
        <color
          rgba="0.898039215686275 0.917647058823529 0.929411764705882 1" />
      </material>
    </visual>
    <collision>
      <origin
        xyz="0 0 0"
        rpy="0 0 0" />
      <geometry>
        <mesh
          filename="package://fdr_IMU_09052/meshes/left_foot_roll_link.STL" />
      </geometry>
    </collision>
  </link>
  <joint
    name="left_foot_roll_joint"
    type="fixed">
    <origin
      xyz="0.0307 0 0.0307"
      rpy="-1.5707963267949 0 1.5707963267949" />
    <parent
      link="left_foot_pitch_link" />
    <child
      link="left_foot_roll_link" />
    <axis
      xyz="0 0 -1" />
    <limit
      lower="-3.14"
      upper="3.14"
      effort="100"
      velocity="100" />
    <dynamics
      damping="10"
      friction="0" />
  </joint>
</robot>
